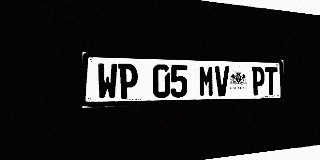0: (152, 64, 170, 98)
5: (171, 65, 187, 98)
M: (199, 65, 214, 97)
P: (118, 63, 138, 99), (252, 67, 265, 95)
T: (265, 67, 277, 95)
V: (215, 66, 229, 96)
W: (97, 63, 117, 100)
